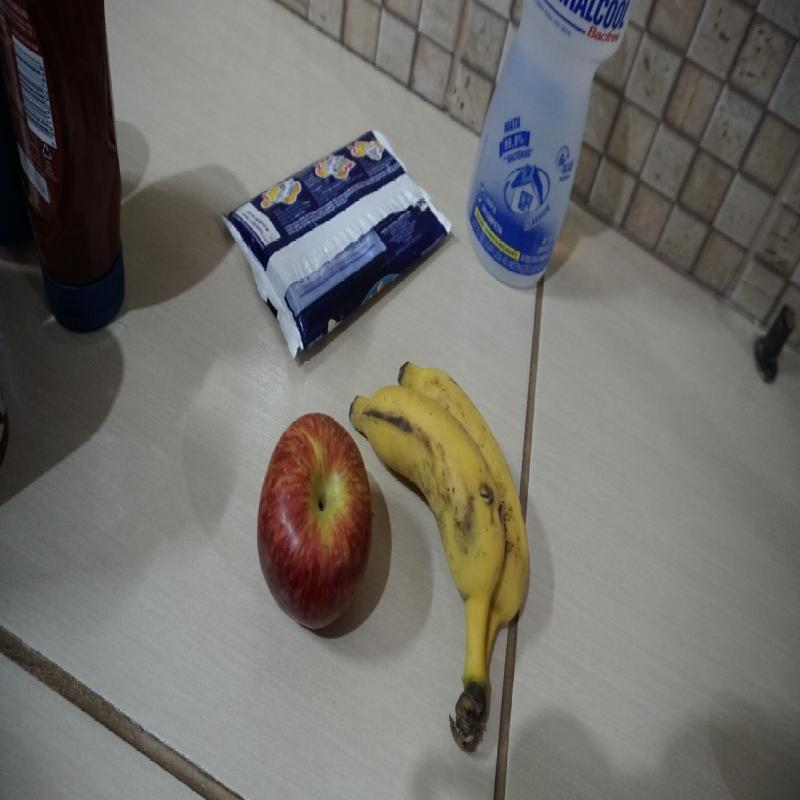Alcohol Bottle: (466, 0, 636, 293)
Apple: (256, 413, 374, 638)
Banana: (348, 360, 531, 754)
Ketchup: (0, 0, 127, 333)
Popcorn: (219, 129, 454, 360)
